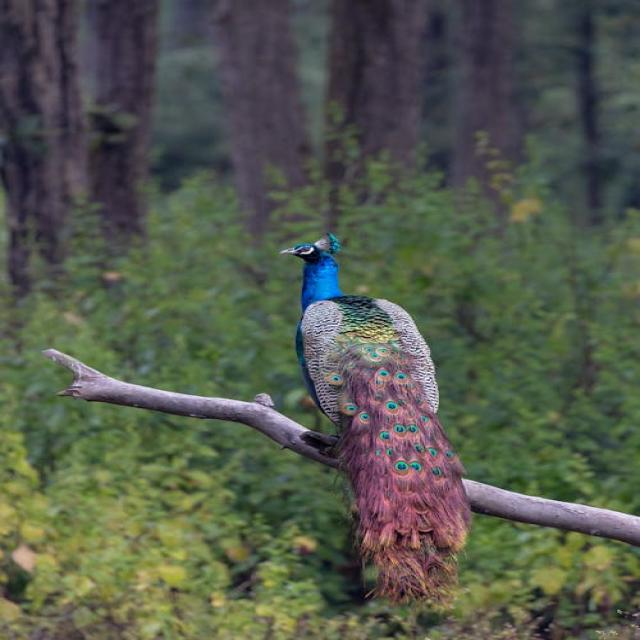peacock: (277, 232, 502, 602)
